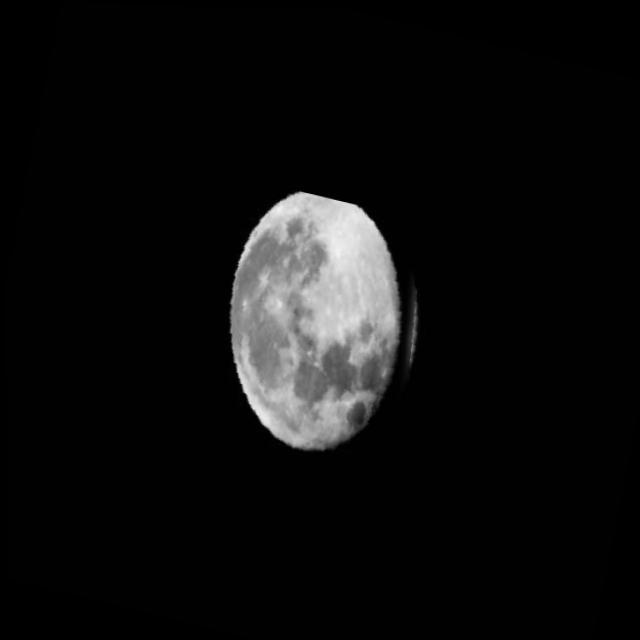moon: (187, 176, 453, 516)
